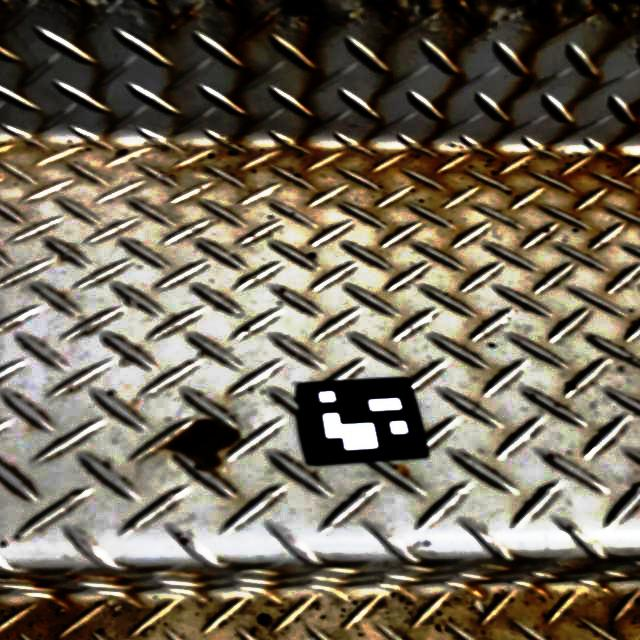Corrosion: (156, 417, 246, 479), (533, 0, 560, 31), (294, 0, 319, 10)
